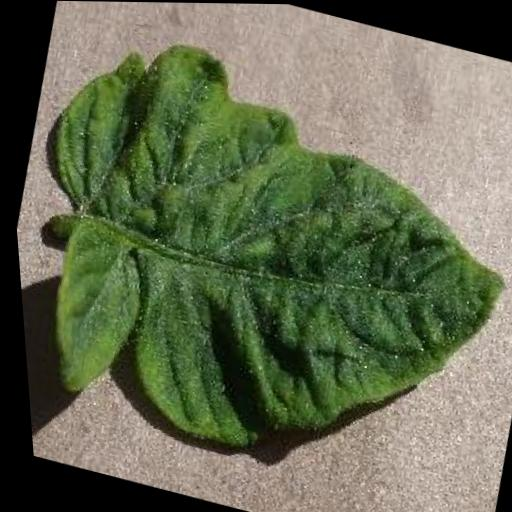Yellow Leaf Curl Virus: (1, 14, 512, 507)
